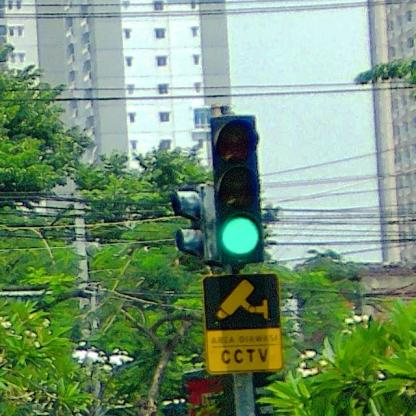Traffic Light -Green-: (208, 115, 266, 264)
